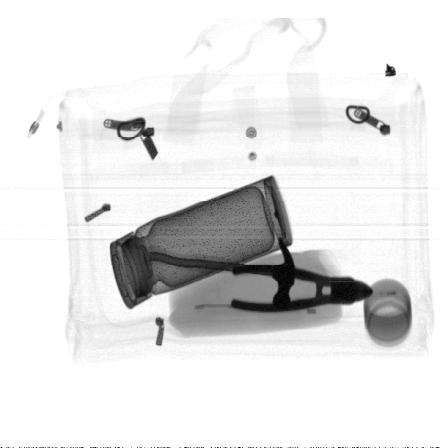Hammer: (148, 238, 295, 309)
Pliers: (231, 264, 374, 314)
